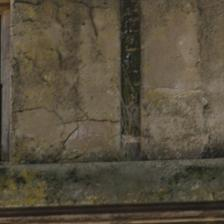Crack: (7, 53, 113, 100)
